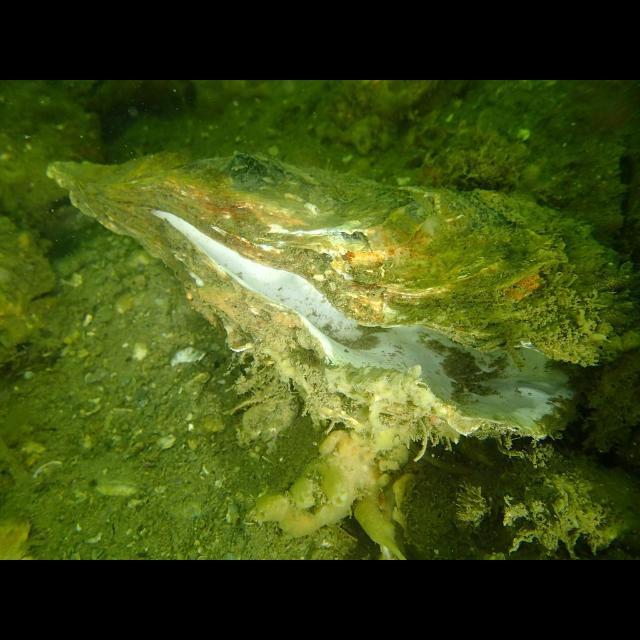Oyster-Open: (45, 148, 640, 442)
